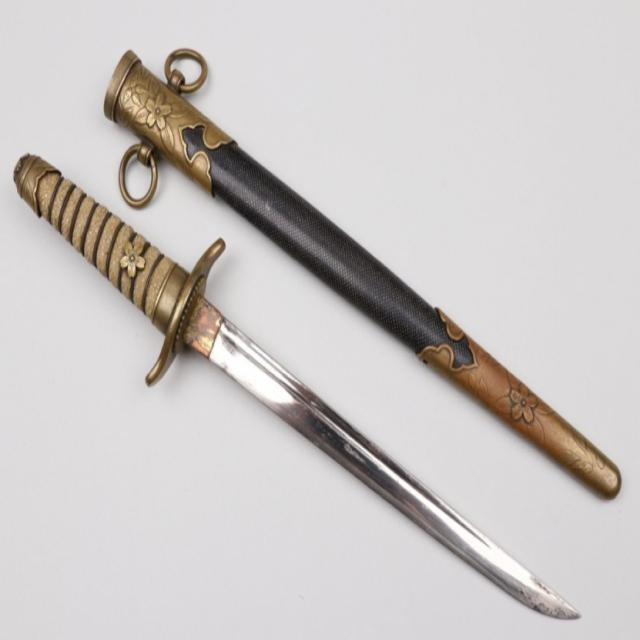short sword: (13, 134, 592, 628)
